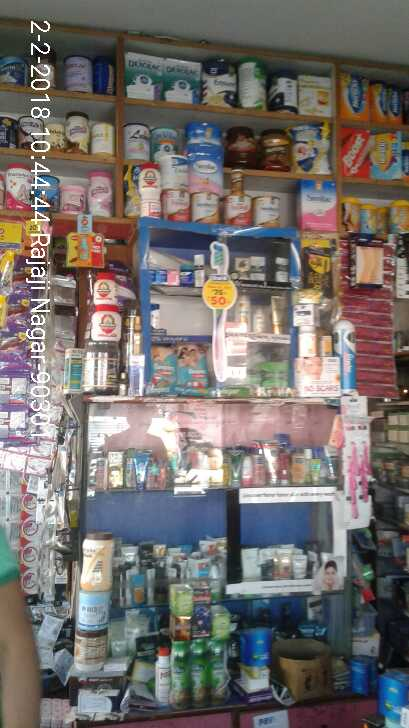beauty: (233, 281, 252, 334), (147, 263, 197, 283), (248, 296, 272, 335), (270, 292, 286, 334), (249, 256, 264, 277), (277, 255, 287, 284)
pharmacy: (331, 314, 367, 402), (177, 344, 209, 388), (147, 342, 174, 389)
